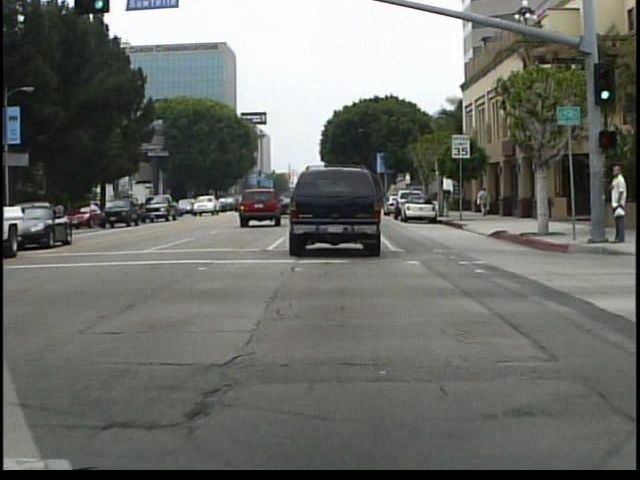person: (603, 160, 623, 248), (476, 183, 494, 221), (431, 185, 445, 218)
